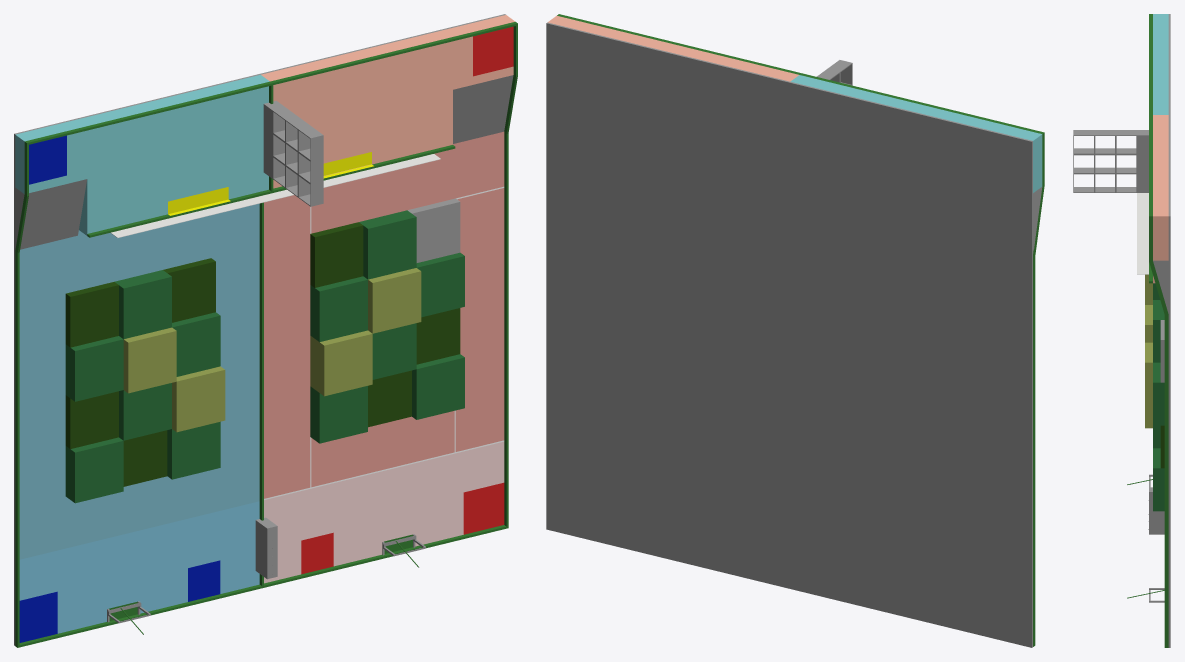
Rendered from arena_visual.obj.
The picture shows the model from 3 angles, left to right: view 1: azimuth 30°, elevation 25°; view 2: azimuth 150°, elevation 25°; view 3: azimuth 270°, elevation 25°; orthographic projection. The views are drawn at different scales.
Parts seen in each view (by area): view 1: Body21, Body26, Body27, Body17, Body29, Body70, Body28, Body32, Body33, Body34, Body35, Body19 (+39 smaller); view 2: Body8, Body70, Body21, Body26; view 3: Body70, Body42, Body26, Body8, Body21, Body23, Body4, Body7, Body2, Body20, Body22, Body44 (+6 smaller).
Boxes of the visible parts, x1,y1,x2,y2 form: Body21: (15, 74, 269, 235); Body26: (261, 15, 514, 188); Body27: (19, 501, 259, 633); Body17: (264, 441, 504, 583); Body29: (264, 195, 310, 498); Body70: (15, 21, 517, 647); Body28: (211, 203, 259, 511); Body32: (19, 295, 65, 558); Body33: (455, 188, 504, 451); Body34: (19, 215, 209, 304); Body35: (311, 131, 504, 233); Body19: (311, 411, 454, 487); Body8: (546, 22, 1032, 647); Body70: (557, 14, 1044, 646); Body21: (791, 75, 1042, 192); Body26: (548, 15, 798, 81); Body70: (1149, 14, 1168, 647); Body42: (1073, 130, 1148, 192); Body26: (1153, 115, 1168, 283); Body8: (1168, 14, 1170, 647); Body21: (1153, 14, 1168, 114); Body23: (1137, 193, 1148, 274); Body4: (1153, 362, 1164, 425); Body7: (1153, 448, 1164, 511); Body2: (1153, 300, 1164, 362); Body20: (1145, 342, 1152, 405); Body22: (1148, 487, 1164, 534); Body44: (1153, 260, 1168, 313).
Size of the model in its own units: 12.15 by 12.1 by 2.47.
